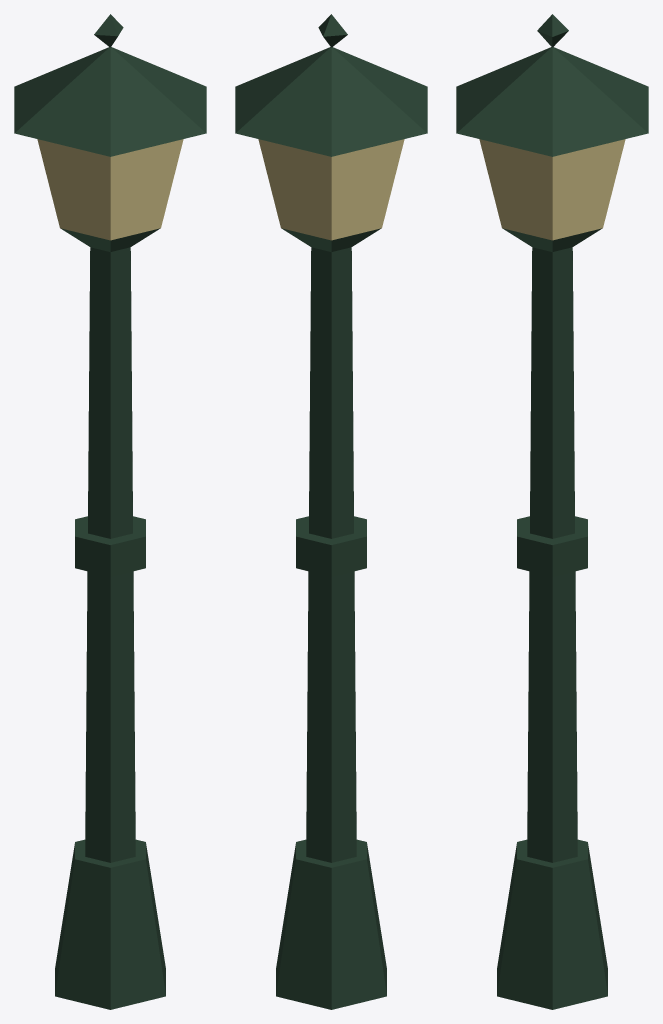
File: street_lamp.glb
3 renders of one model, left to right at view 1: azimuth 30°, elevation 25°; view 2: azimuth 150°, elevation 25°; view 3: azimuth 270°, elevation 25°, orthographic.
Parts seen in each view (by area): view 1: street_lamp2; view 2: street_lamp2; view 3: street_lamp2.
Boxes of the visible parts, x1=… form: street_lamp2: x1=14, y1=14, x2=206, y2=1009; street_lamp2: x1=235, y1=14, x2=427, y2=1009; street_lamp2: x1=456, y1=14, x2=648, y2=1009.
Bounding box in the file's own units: 0.76 × 3.66 × 0.6582.
